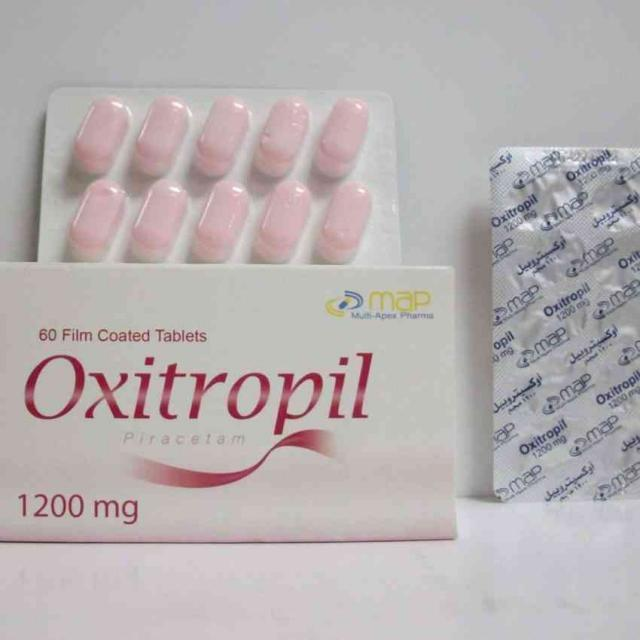drug-name: (23, 349, 380, 437)
